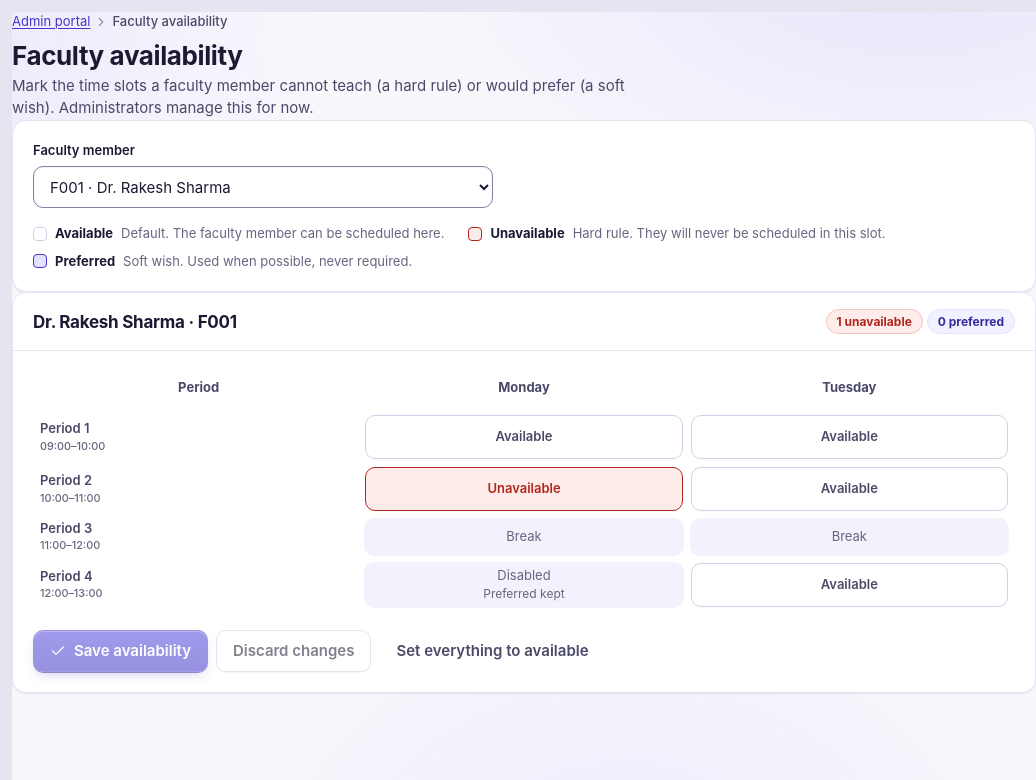
Test: Availability screen - editing (ISH-TC09..TC11) › Discard changes restores the saved settings
Click the button with aria-label "Tuesday period 1," at (849, 437), box [691,415,1008,459]
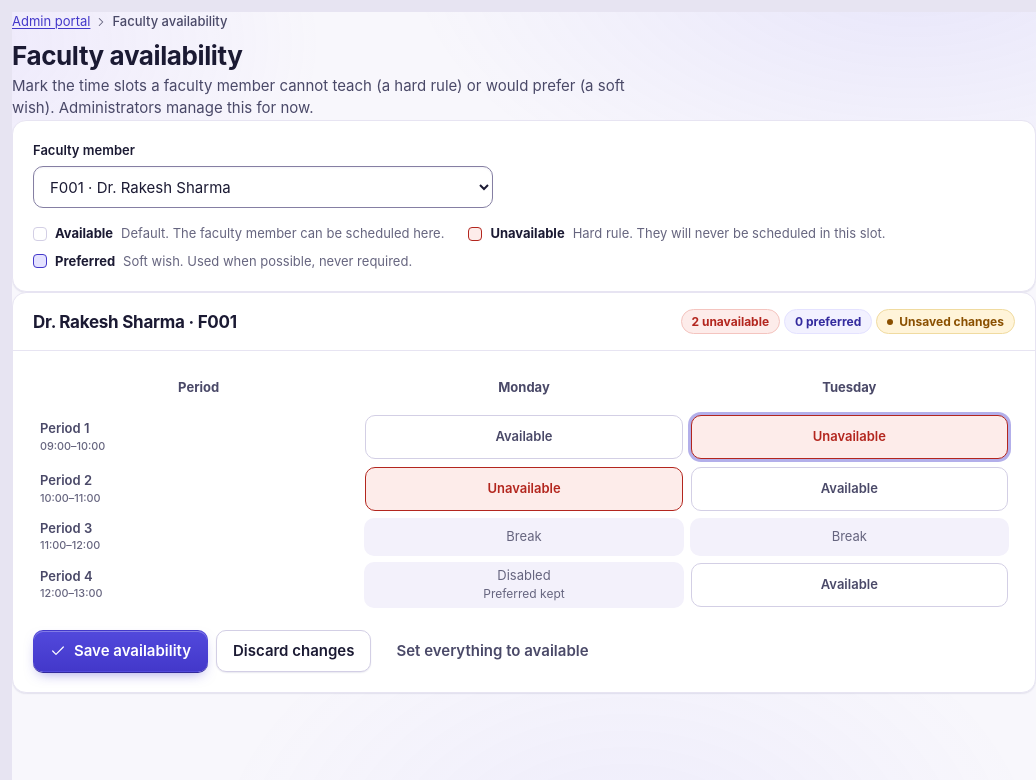
Click the button "Discard changes" at (294, 651), box [216,630,372,672]
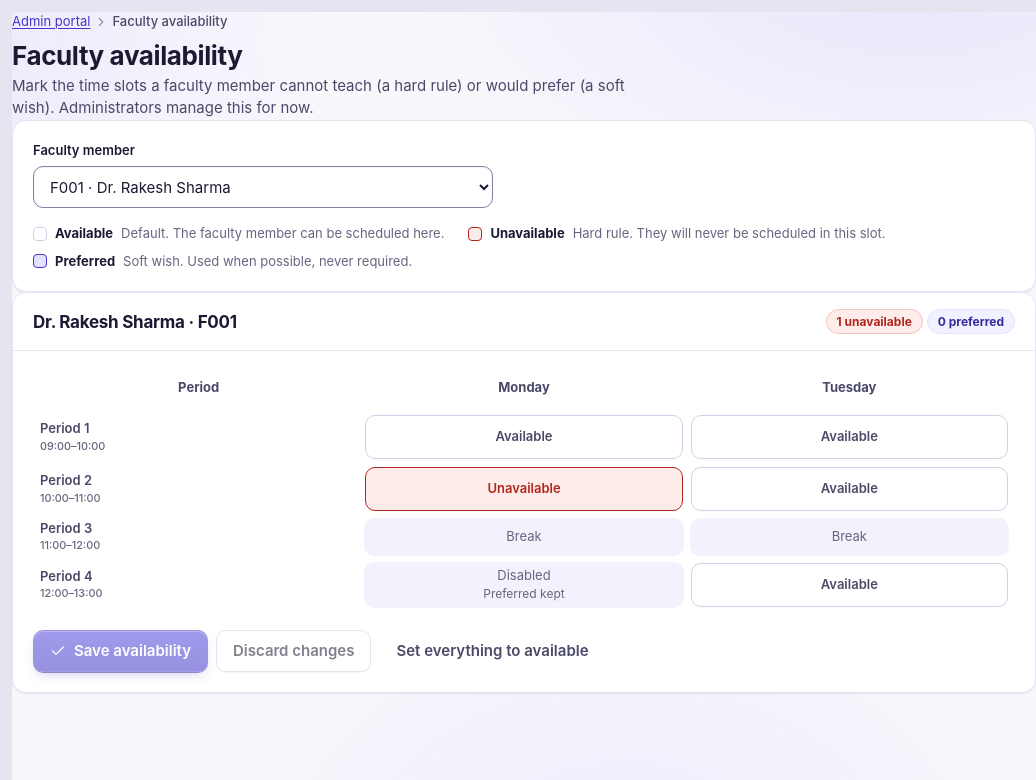
Expected: the button with aria-label "Tuesday period 1," reads "Available", [691,415,1008,459]
Expected: the text "Unsaved changes" is gone
